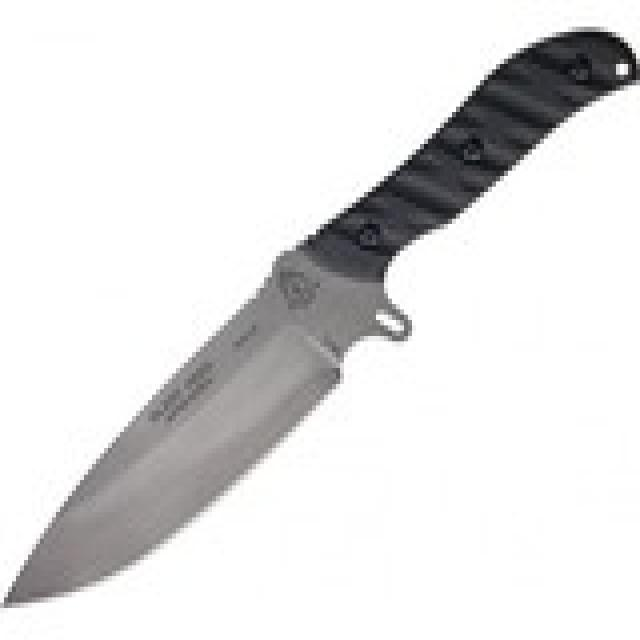Knife: (6, 25, 633, 616)
